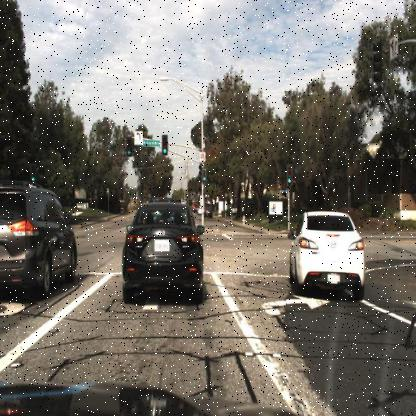car: (0, 180, 79, 298), (122, 196, 204, 306), (288, 208, 369, 306), (203, 203, 214, 222)
trafficLight-Green: (285, 164, 295, 188), (160, 137, 168, 160), (200, 165, 208, 184)
trafficLight-GreenLeft: (28, 165, 40, 186), (125, 133, 133, 160)
